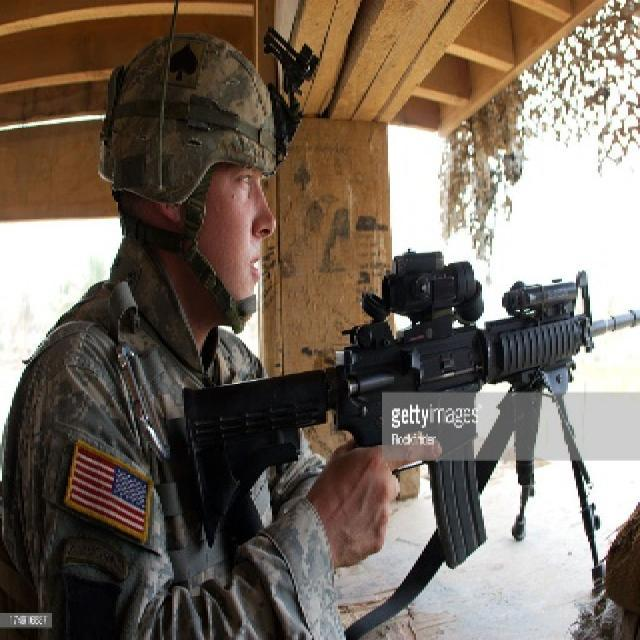weapon: (174, 255, 634, 568)
